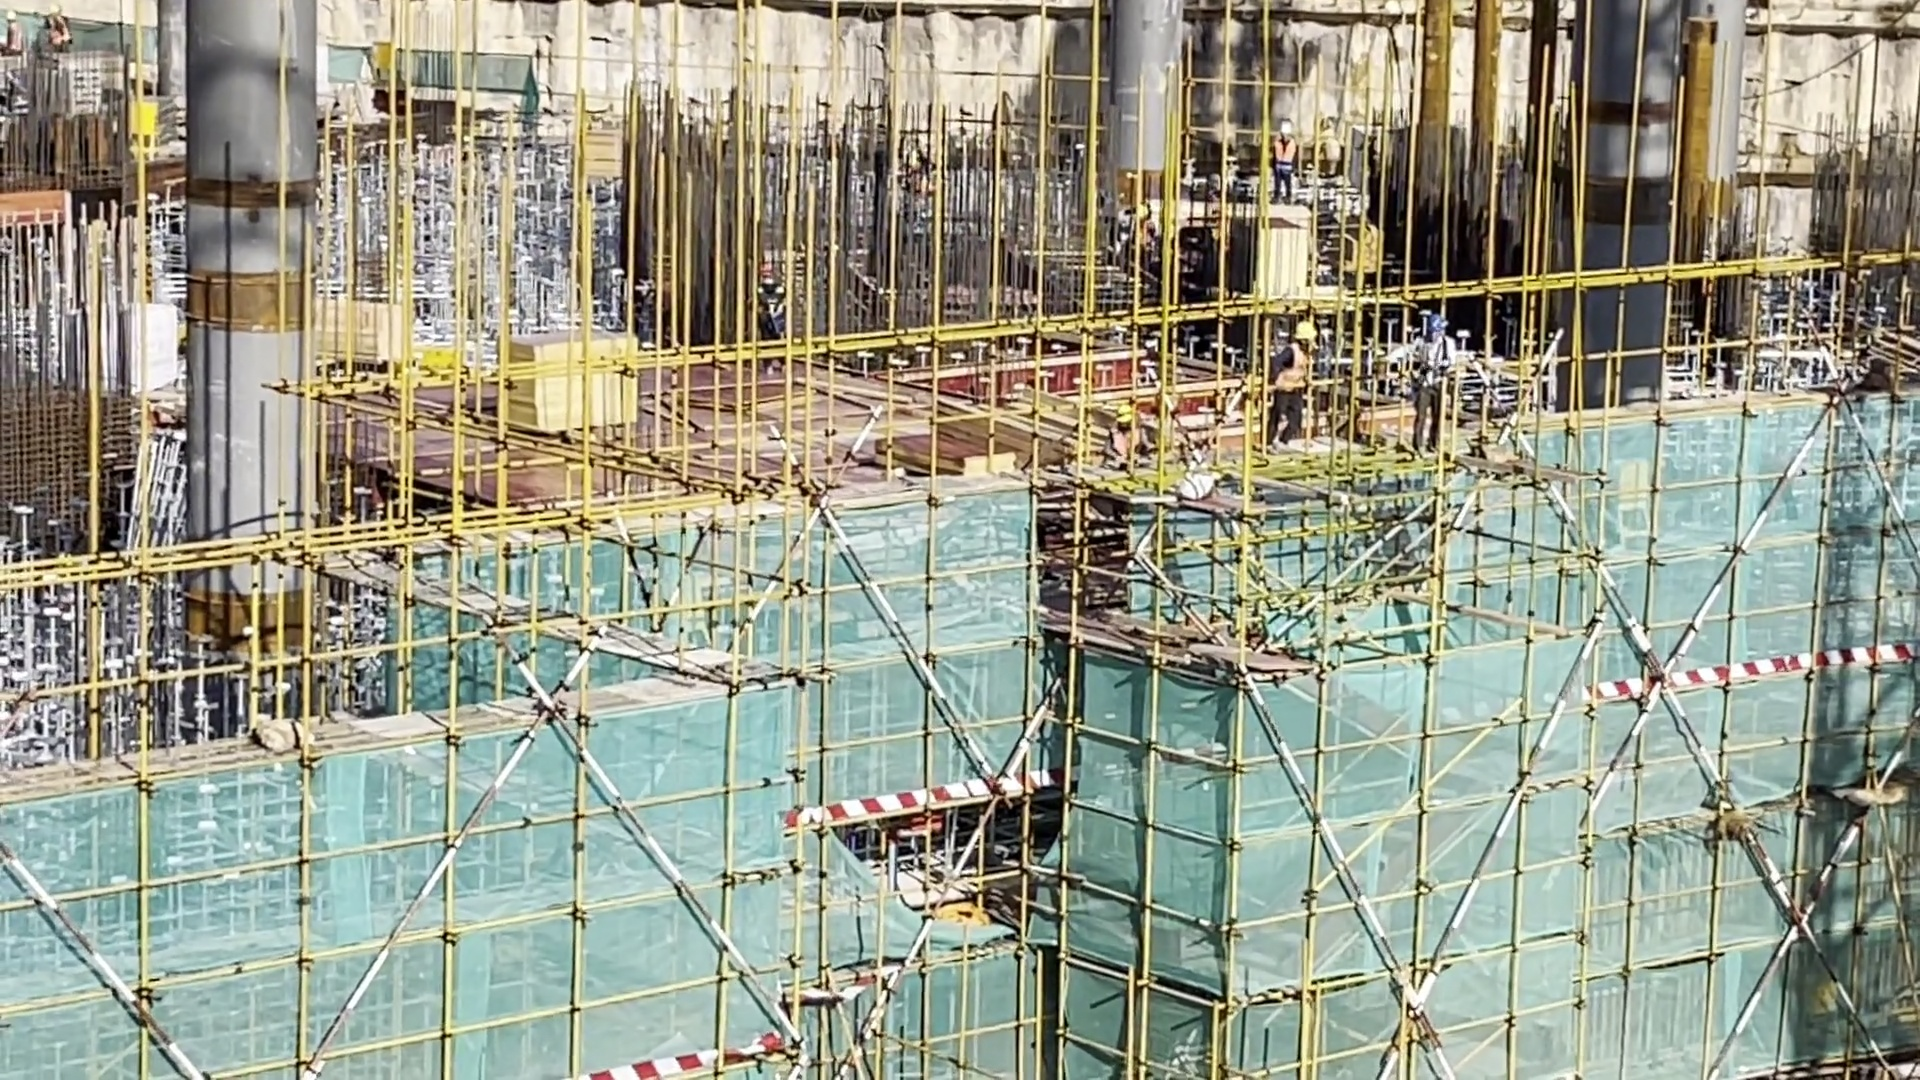board: (504, 309, 633, 426), (576, 119, 646, 196), (878, 419, 964, 479)
helmet: (1297, 317, 1326, 346), (609, 263, 636, 288), (1280, 117, 1300, 142), (1429, 314, 1446, 338), (759, 270, 775, 291), (1119, 404, 1133, 420), (1140, 200, 1149, 223), (10, 6, 20, 20), (48, 4, 58, 14)
person: (1407, 317, 1452, 462), (1265, 315, 1315, 438), (603, 253, 661, 348), (1095, 400, 1158, 475), (1120, 186, 1157, 272), (763, 267, 792, 368), (1271, 121, 1297, 199), (37, 3, 72, 52), (1, 9, 26, 52)
vest: (1273, 354, 1308, 404), (634, 271, 662, 324), (1414, 341, 1443, 392), (1107, 429, 1147, 463), (46, 11, 70, 47), (771, 292, 788, 334), (6, 17, 22, 51), (1273, 146, 1294, 171), (1143, 212, 1157, 245)
wood: (983, 402, 1126, 471), (318, 286, 418, 371)
